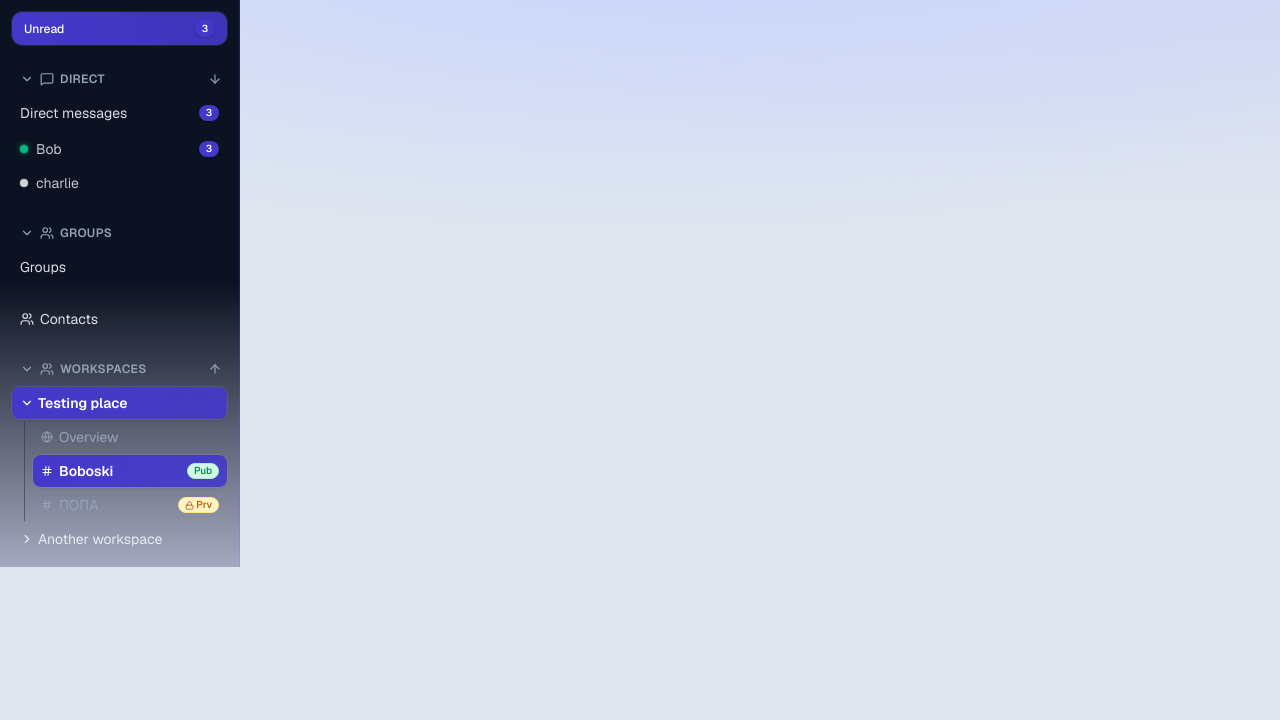
Scenario: Sidebar — Workspaces section › toggles workspace channels on click
expect the text "Boboski" is shown: met, box x1=41 y1=461 x2=113 y2=481
Click the button with test id "sidebar-workspace-toggle-ws1" at (120, 403), box x1=12 y1=387 x2=227 y2=419
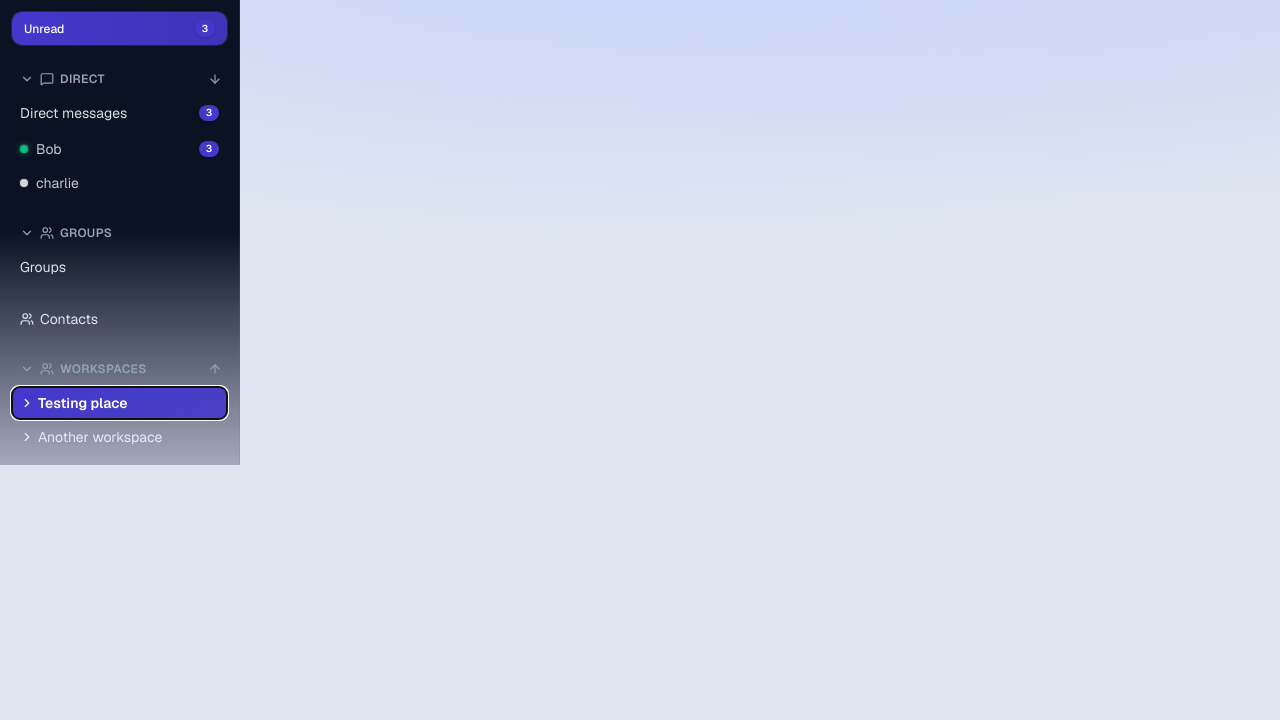
expect the element with test id "sidebar-workspace-channels-ws1" is gone: met
Click the button with test id "sidebar-workspace-toggle-ws1" at (120, 403), box x1=12 y1=387 x2=227 y2=419
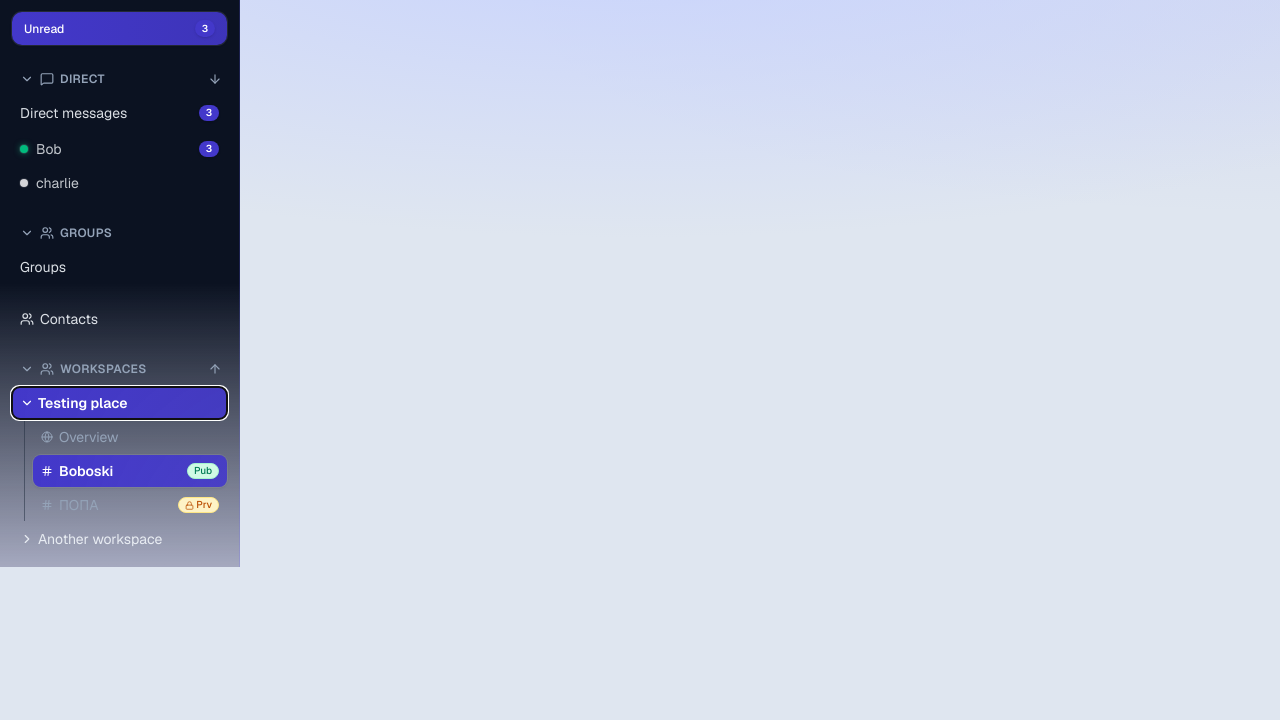
expect the element with test id "sidebar-workspace-channels-ws1" is shown: met, box x1=24 y1=421 x2=227 y2=521
